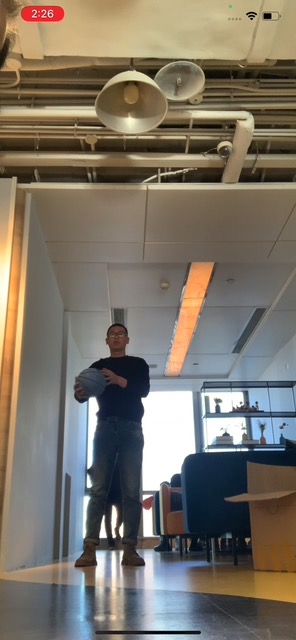ball: (75, 367, 108, 399)
